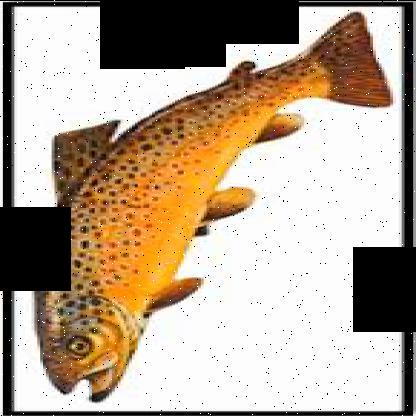fish: (28, 14, 388, 404)
